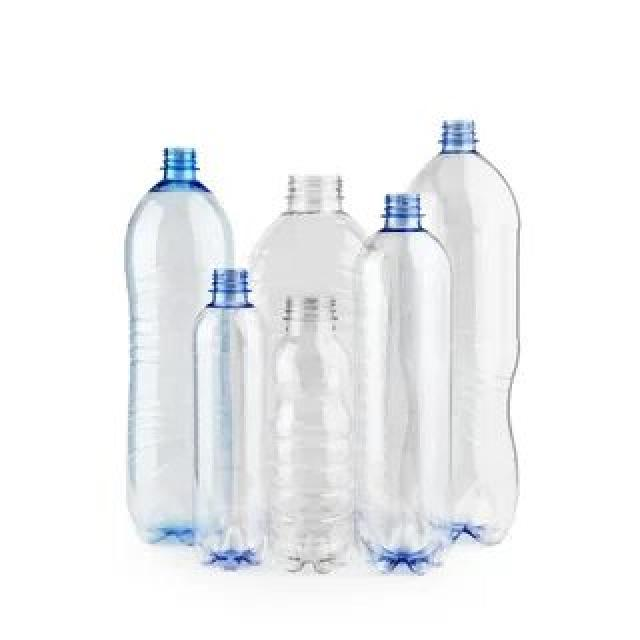blue: (348, 192, 450, 572), (125, 148, 195, 545), (192, 268, 263, 570)
